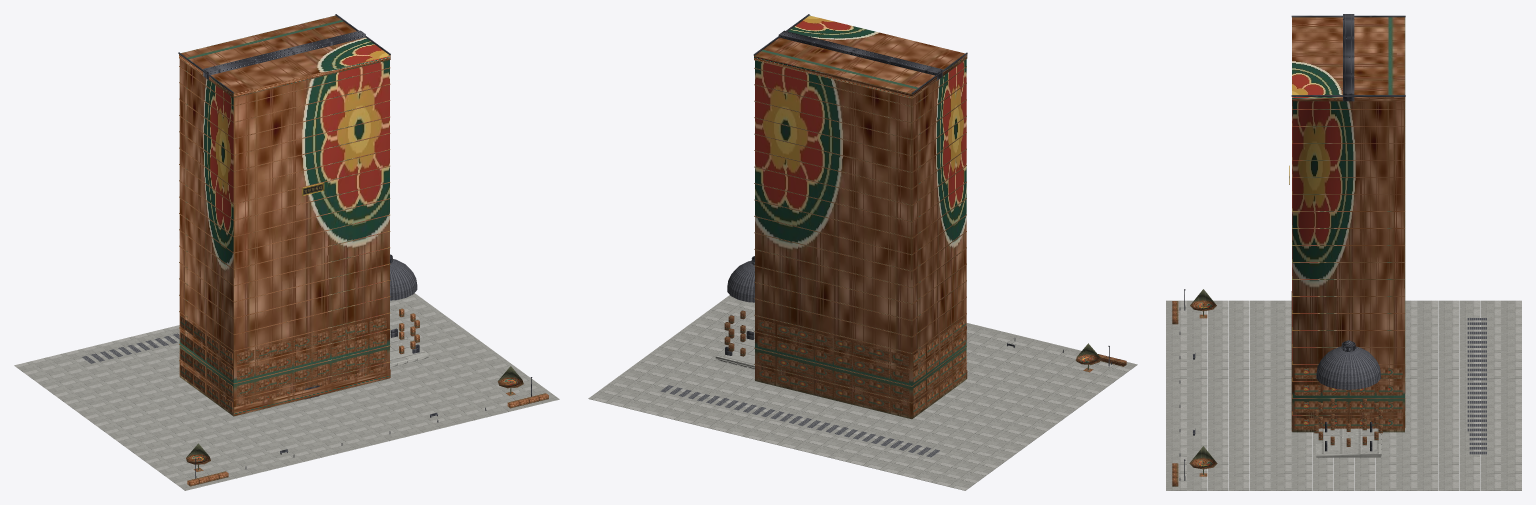
The picture shows the model from 3 angles, left to right: view 1: azimuth 30°, elevation 25°; view 2: azimuth 150°, elevation 25°; view 3: azimuth 270°, elevation 25°; orthographic projection. The views are drawn at different scales.
Parts seen in each view (by area): view 1: 11680_01_06236_034_02__mass_body_facade, 11680_01_06236_034_01__plinth_ground_base, 11680_01_06236_034_05__window_sash_glass, 11680_01_06236_034_03__roof_metal_ornament, 11680_01_06236_034_03__roof_deck_structure, 11680_01_06236_034_06__landscape_greenery; view 2: 11680_01_06236_034_02__mass_body_facade, 11680_01_06236_034_01__plinth_ground_base, 11680_01_06236_034_03__roof_deck_structure, 11680_01_06236_034_03__roof_metal_ornament; view 3: 11680_01_06236_034_01__plinth_ground_base, 11680_01_06236_034_02__mass_body_facade, 11680_01_06236_034_03__roof_deck_structure, 11680_01_06236_034_03__roof_metal_ornament, 11680_01_06236_034_06__landscape_greenery, 11680_01_06236_034_05__window_sash_glass.
Part boxes in pixels (x1,y1,x2,y2): 11680_01_06236_034_02__mass_body_facade: (179, 15, 390, 416); 11680_01_06236_034_01__plinth_ground_base: (14, 293, 559, 490); 11680_01_06236_034_05__window_sash_glass: (239, 308, 419, 405); 11680_01_06236_034_03__roof_metal_ornament: (178, 14, 392, 263); 11680_01_06236_034_03__roof_deck_structure: (82, 259, 417, 363); 11680_01_06236_034_06__landscape_greenery: (186, 366, 548, 486); 11680_01_06236_034_02__mass_body_facade: (754, 15, 967, 419); 11680_01_06236_034_01__plinth_ground_base: (588, 295, 1137, 490); 11680_01_06236_034_03__roof_deck_structure: (660, 260, 939, 457); 11680_01_06236_034_03__roof_metal_ornament: (751, 14, 967, 265); 11680_01_06236_034_01__plinth_ground_base: (1166, 300, 1521, 490); 11680_01_06236_034_02__mass_body_facade: (1291, 17, 1405, 432); 11680_01_06236_034_03__roof_deck_structure: (1316, 318, 1486, 454); 11680_01_06236_034_03__roof_metal_ornament: (1291, 14, 1405, 351); 11680_01_06236_034_06__landscape_greenery: (1172, 289, 1217, 486); 11680_01_06236_034_05__window_sash_glass: (1291, 291, 1382, 446).
Bounding box in the file's own units: 95.95 × 80.6 × 75.95.
7 materials, 7 textured.
